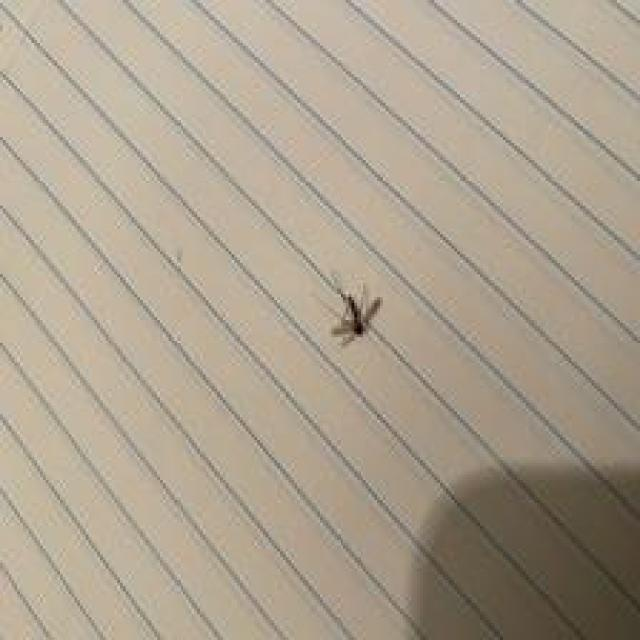Culex: (330, 286, 381, 346)
